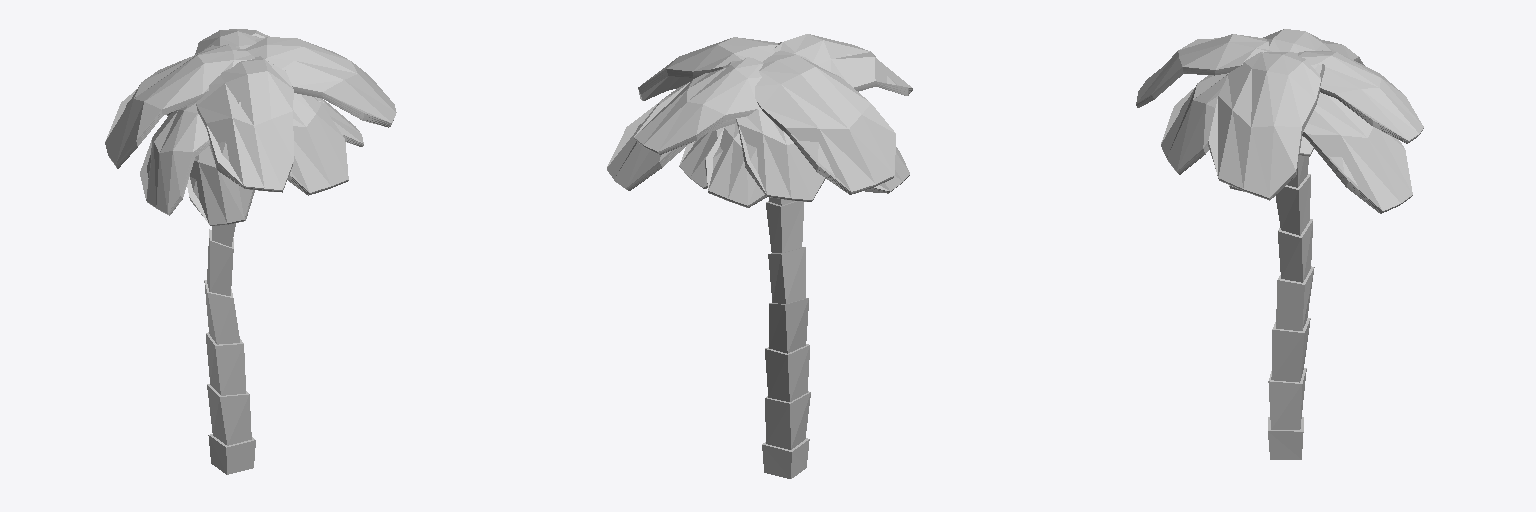
The model's file is Palm1.obj.
3 views of the same model, side by side, from view 1: azimuth 30°, elevation 25°; view 2: azimuth 150°, elevation 25°; view 3: azimuth 270°, elevation 25° (orthographic).
Size of the model in its own units: 14.7 by 21.81 by 13.74.